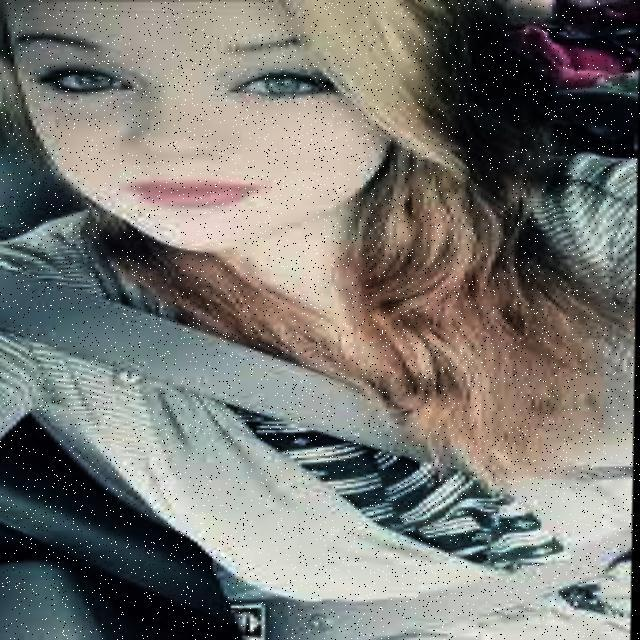seatbelt: (0, 186, 538, 491)
